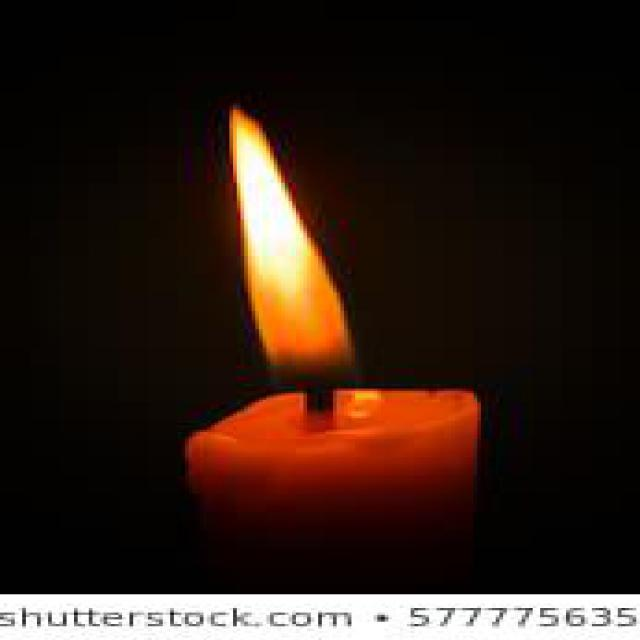Fire: (230, 104, 352, 392)
